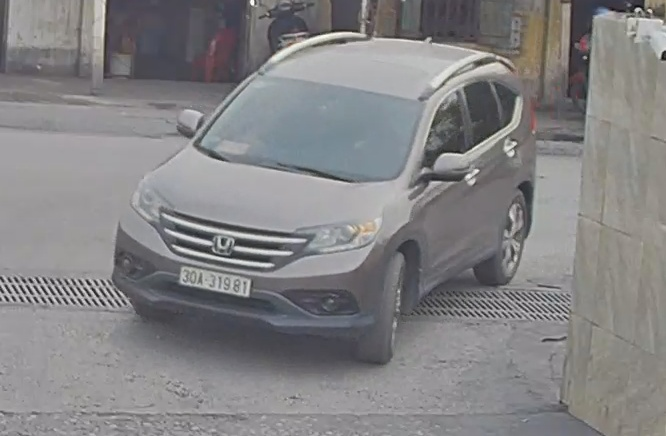vehicle plate: (175, 261, 255, 300)
